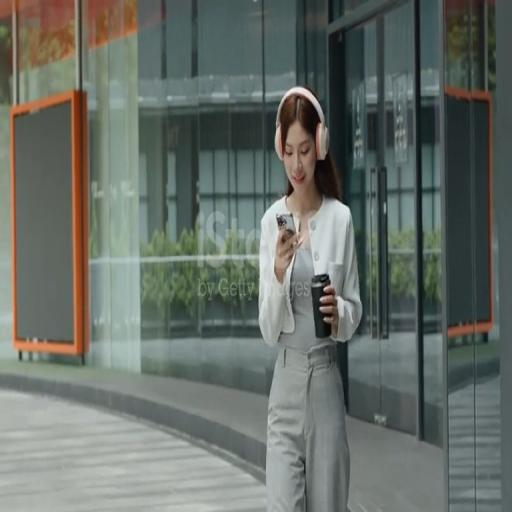earphone: (268, 88, 334, 164)
